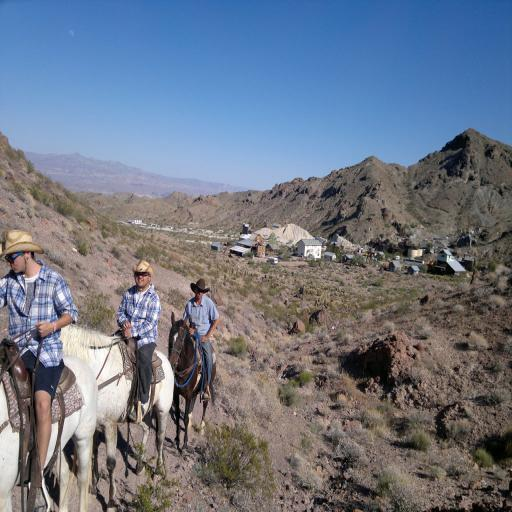horse: (58, 323, 176, 510), (0, 352, 99, 512), (168, 307, 216, 455)
